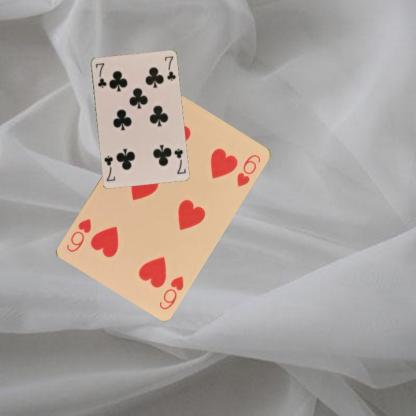6h: (156, 273, 185, 311)
7c: (172, 146, 186, 175), (93, 61, 107, 89)
